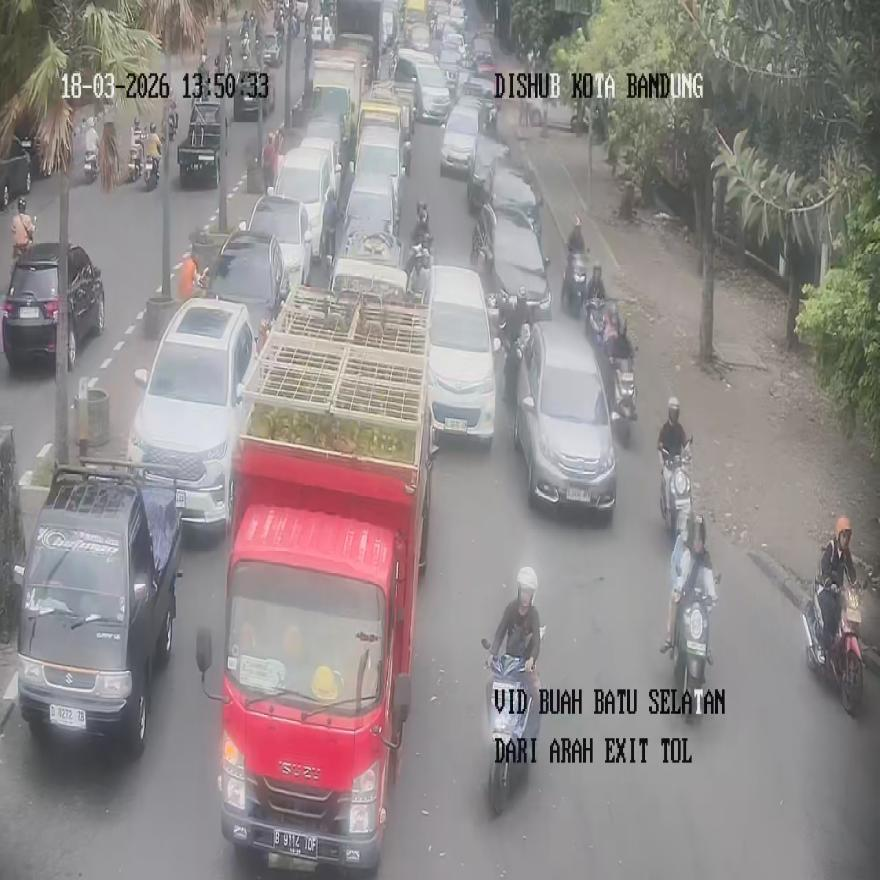Mobil: (13, 458, 183, 756), (126, 297, 258, 533), (513, 320, 618, 512), (2, 241, 106, 371), (426, 265, 500, 446), (203, 221, 290, 350), (470, 203, 552, 321), (244, 192, 314, 291)
Motor: (481, 627, 543, 814), (806, 577, 864, 715), (673, 574, 719, 720), (660, 435, 692, 540), (612, 354, 637, 444), (405, 237, 432, 306), (562, 250, 588, 316), (145, 152, 160, 190), (128, 144, 142, 182), (84, 147, 99, 182), (166, 100, 178, 141)
